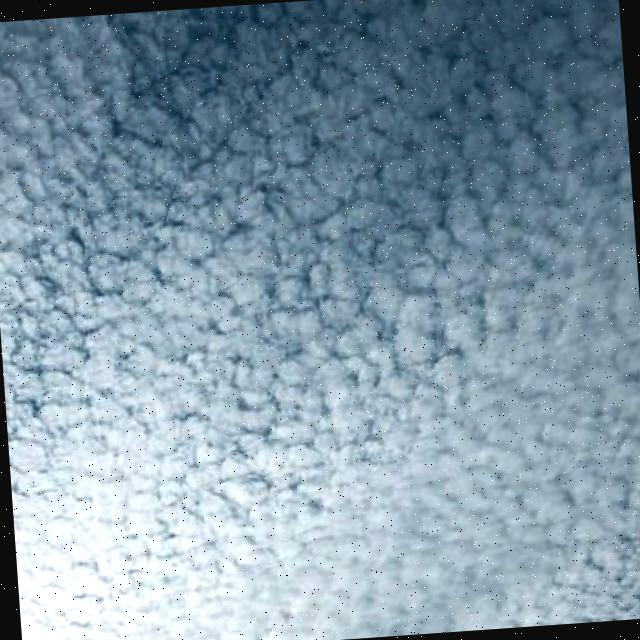Cc: (1, 1, 640, 577)
